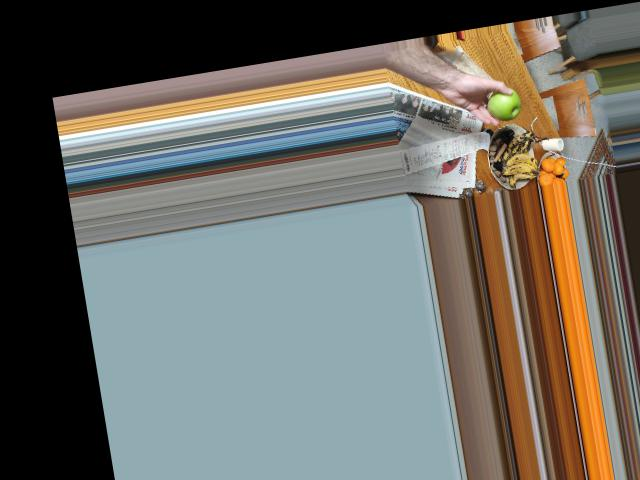apple: (479, 81, 525, 125)
